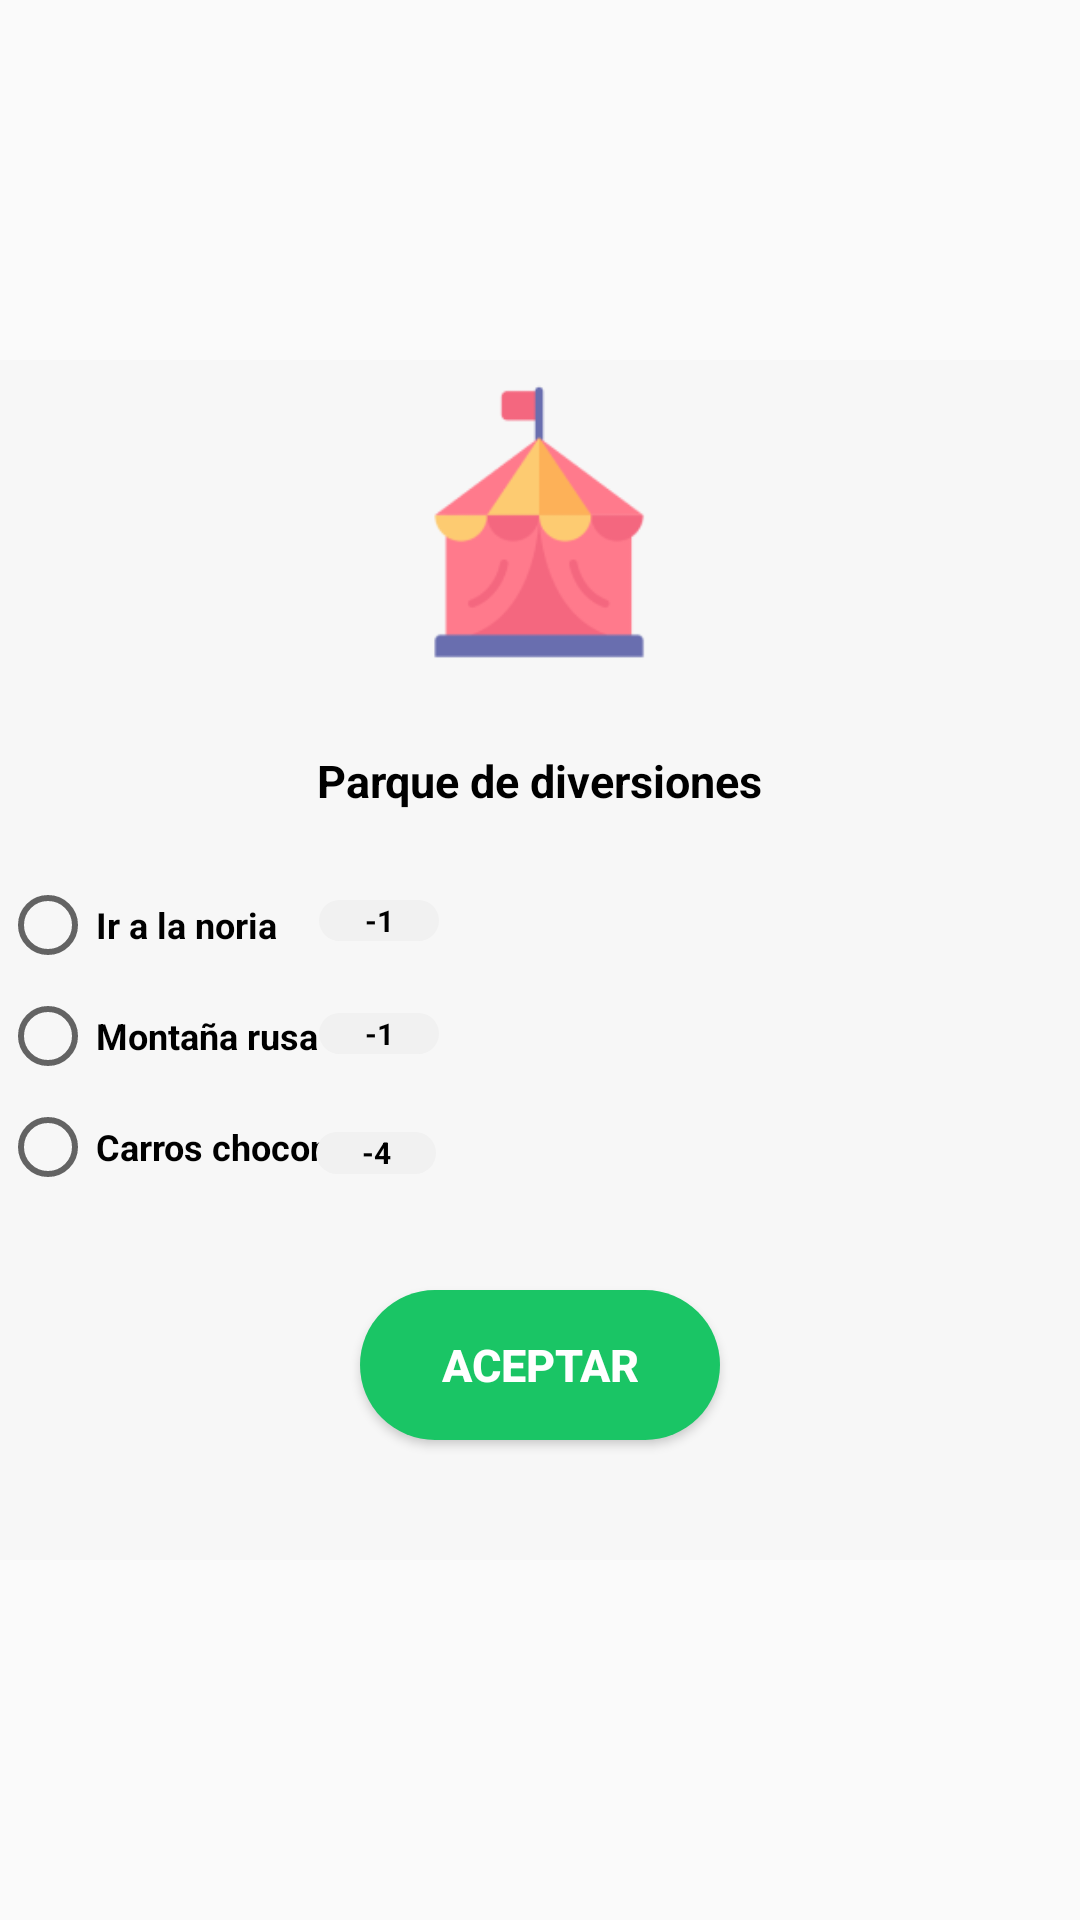

Named icons in this screenshot (1080px×1920px) and their centers, point (x, y):
park: point (539, 522)
